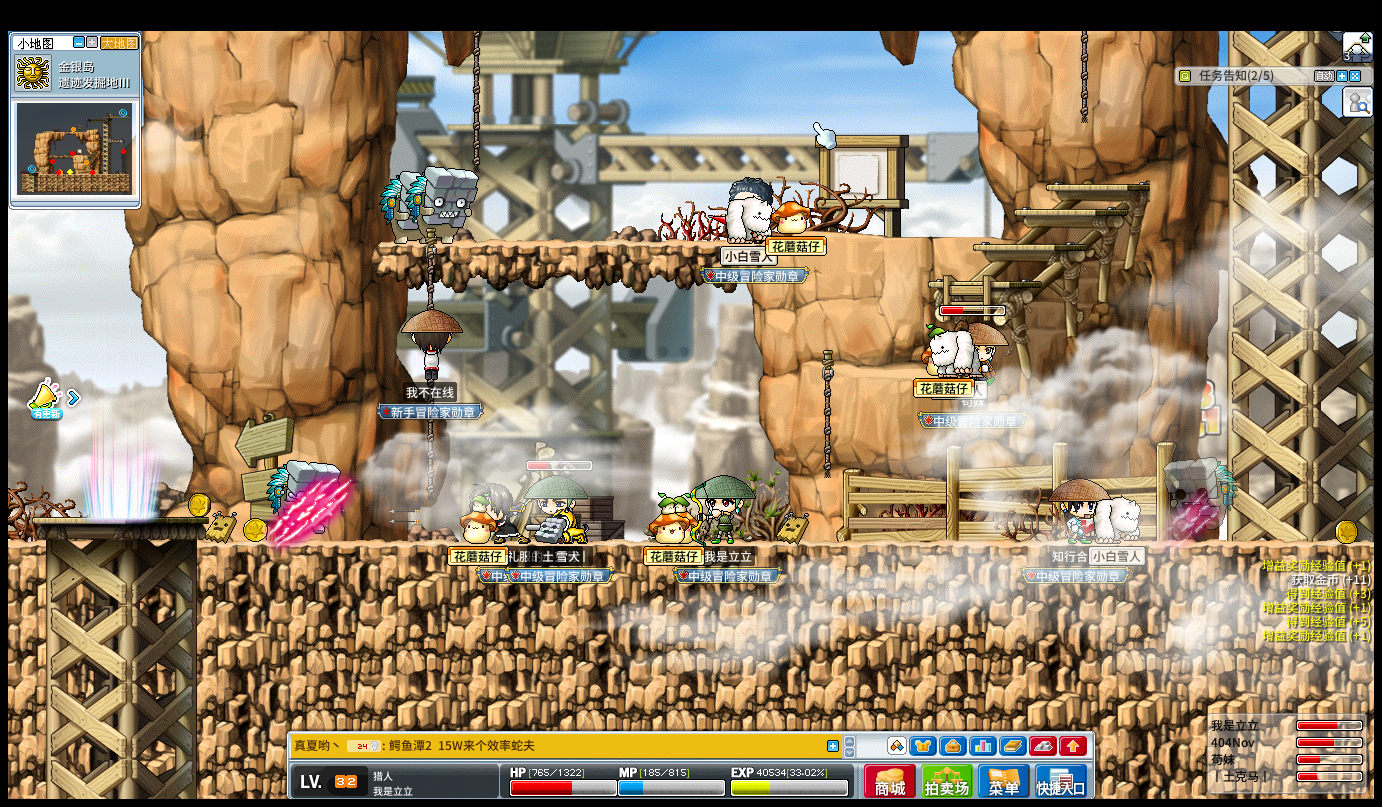floor: (197, 539, 1373, 560), (374, 239, 764, 253), (852, 366, 994, 384), (22, 515, 212, 525), (859, 233, 1018, 243), (925, 278, 1040, 287), (1011, 207, 1122, 215), (1046, 184, 1150, 192), (975, 243, 1088, 250), (4, 541, 45, 552)
monster: (267, 460, 343, 541), (1164, 456, 1236, 541), (409, 164, 478, 245)
rope: (820, 349, 833, 482), (473, 31, 481, 173), (423, 236, 435, 312), (1079, 31, 1088, 123)
